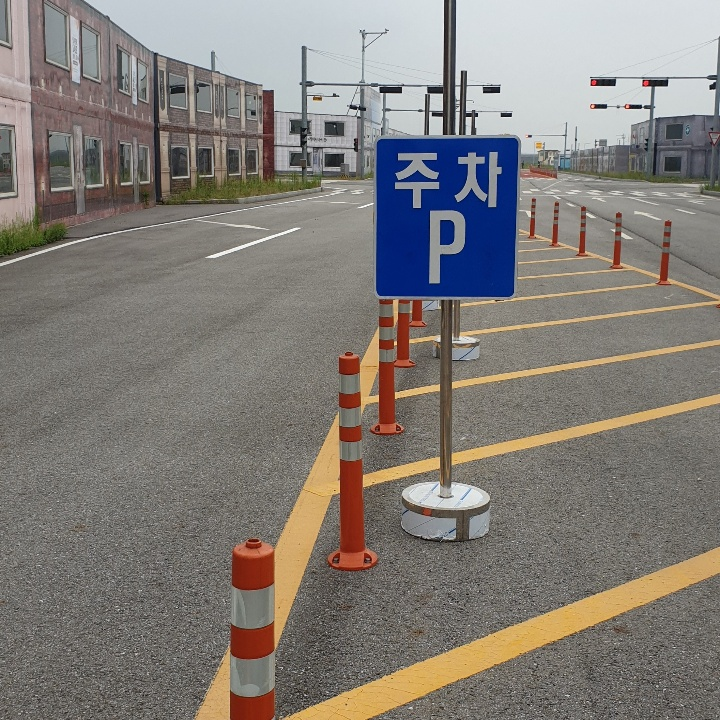parking: (415, 200, 476, 291)
